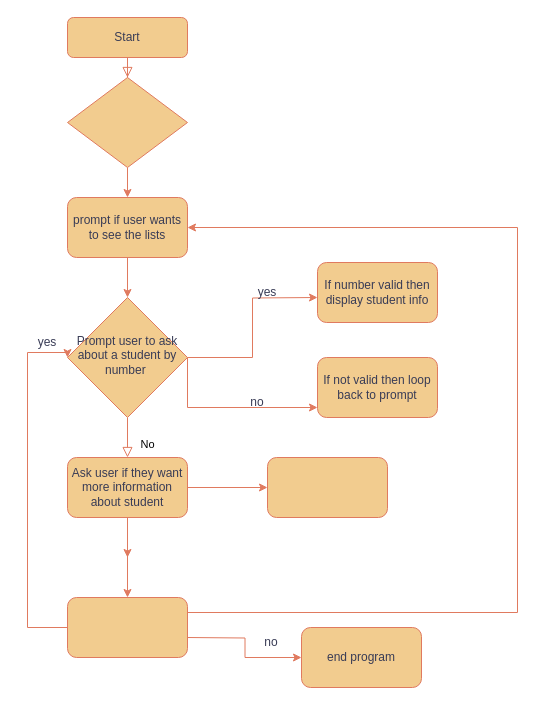
This 543x705 diagram has some shape labels left out. Here are the shapes that lost their labels. From the top down, the centre of each, then its label:
At pixel 127 122: "Create 3 lists with name, hometown , and food options".
At pixel 327 487: "Display either hometown or food if entered".
At pixel 127 627: "Ask if they want to see info about another student".
